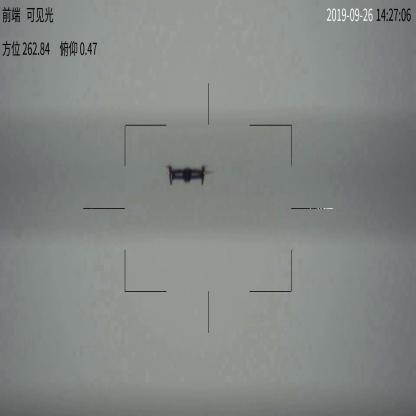uav: (159, 162, 214, 186)
